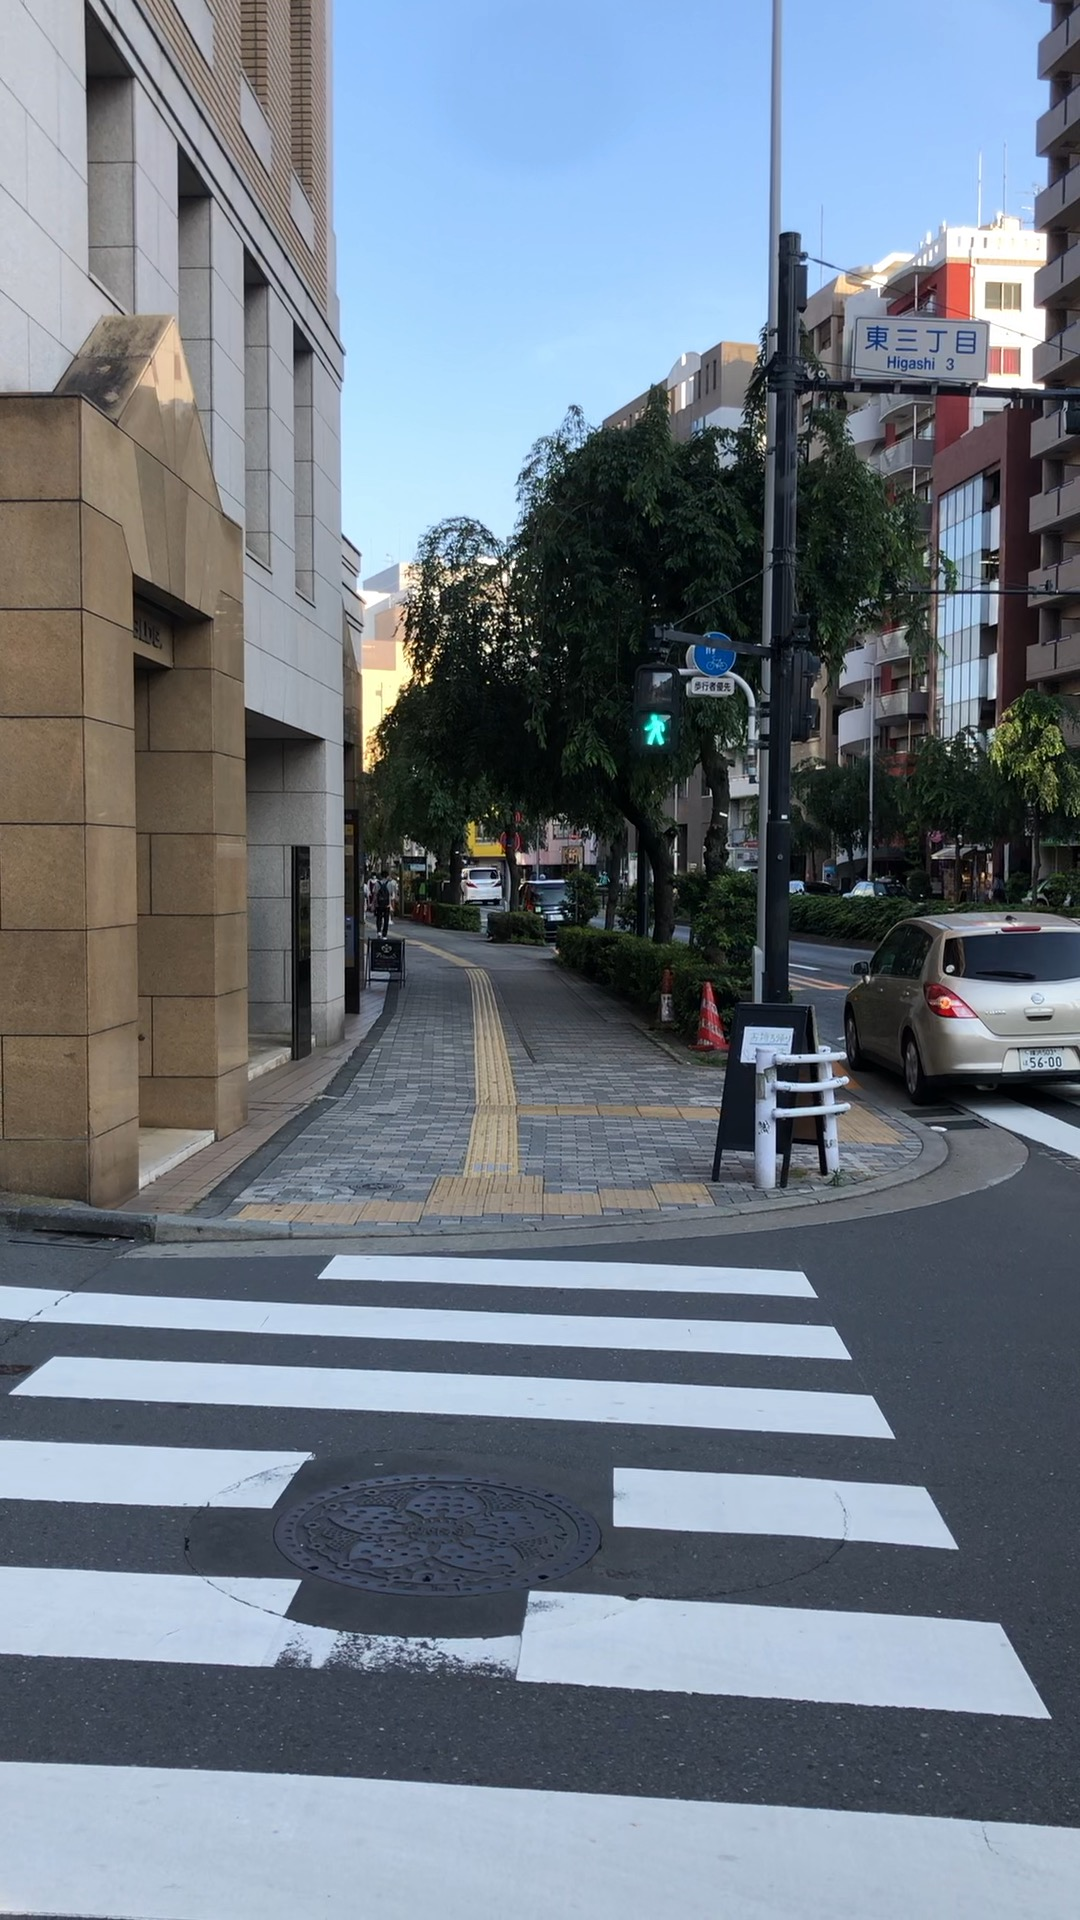green: (632, 665, 676, 753)
